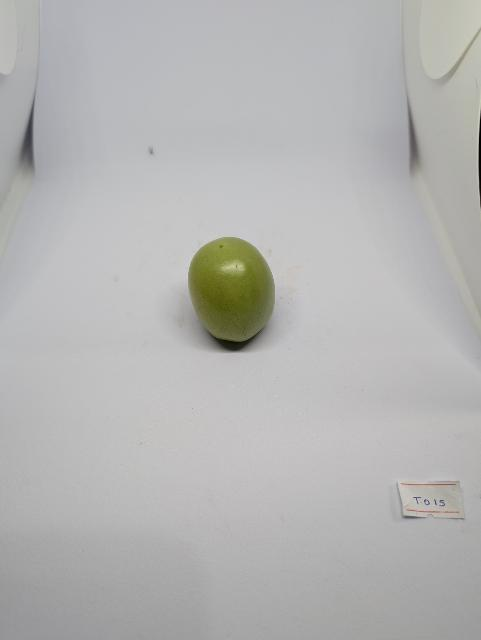green: (186, 235, 280, 344)
